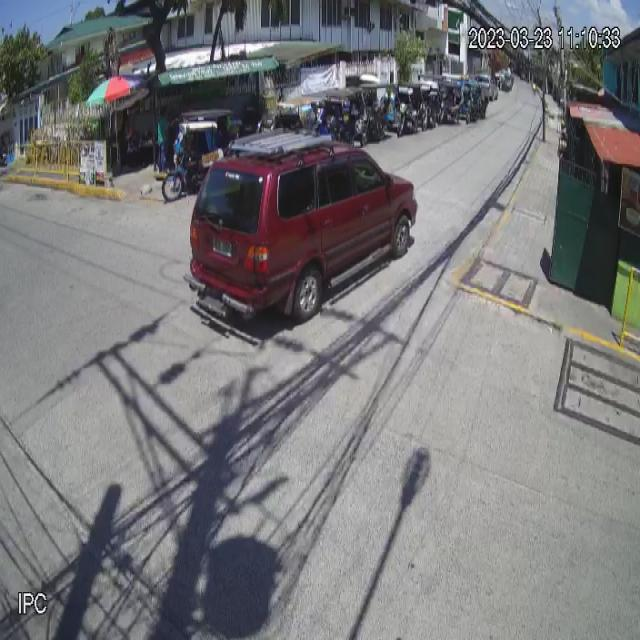Car: (182, 126, 420, 328)
